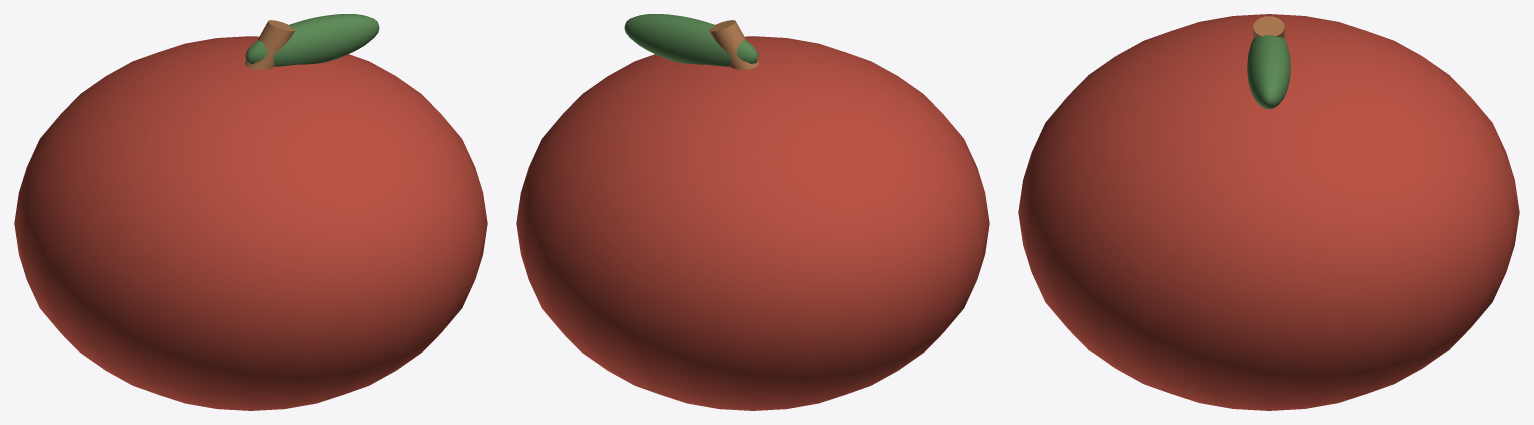
File: wp-tomate.glb
3 renders of one model, left to right at view 1: azimuth 30°, elevation 25°; view 2: azimuth 150°, elevation 25°; view 3: azimuth 270°, elevation 25°, orthographic. The views are drawn at different scales.
Visible parts, largest first — view 1: wp-tomate; view 2: wp-tomate; view 3: wp-tomate.
Boxes of the visible parts, x1=… form: wp-tomate: x1=14, y1=14, x2=487, y2=410; wp-tomate: x1=516, y1=14, x2=989, y2=410; wp-tomate: x1=1018, y1=14, x2=1519, y2=410.
Size of the model in its own units: 0.085 by 0.07 by 0.085.
